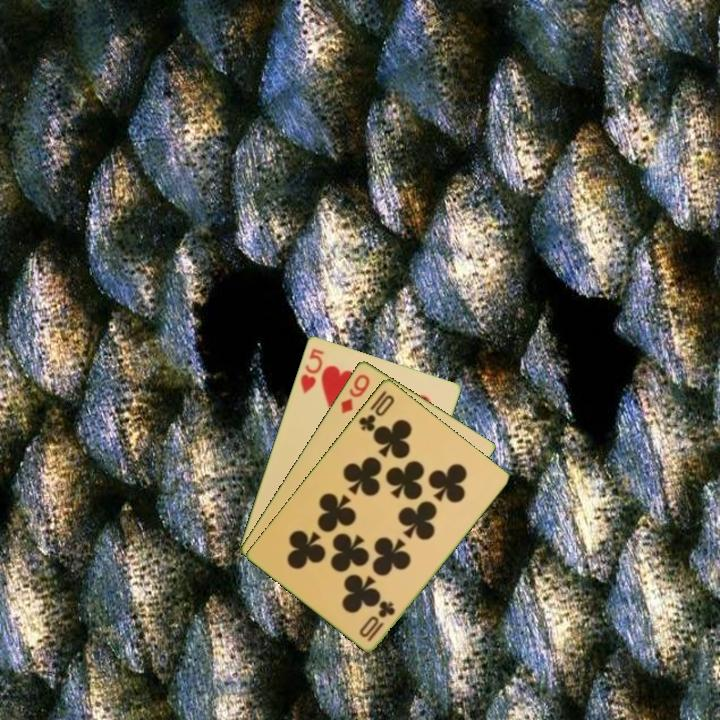10c: (355, 386, 397, 434), (356, 597, 398, 644)
5h: (297, 344, 327, 396)
9d: (337, 370, 373, 416)
